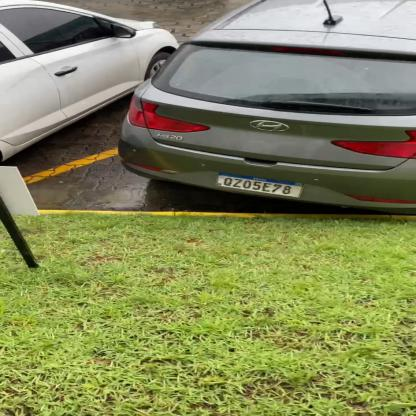Plate: (214, 169, 306, 203)
